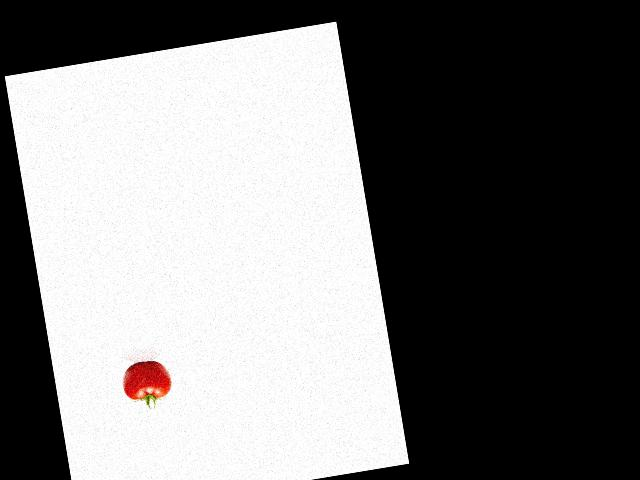tomato: (118, 357, 173, 403)
